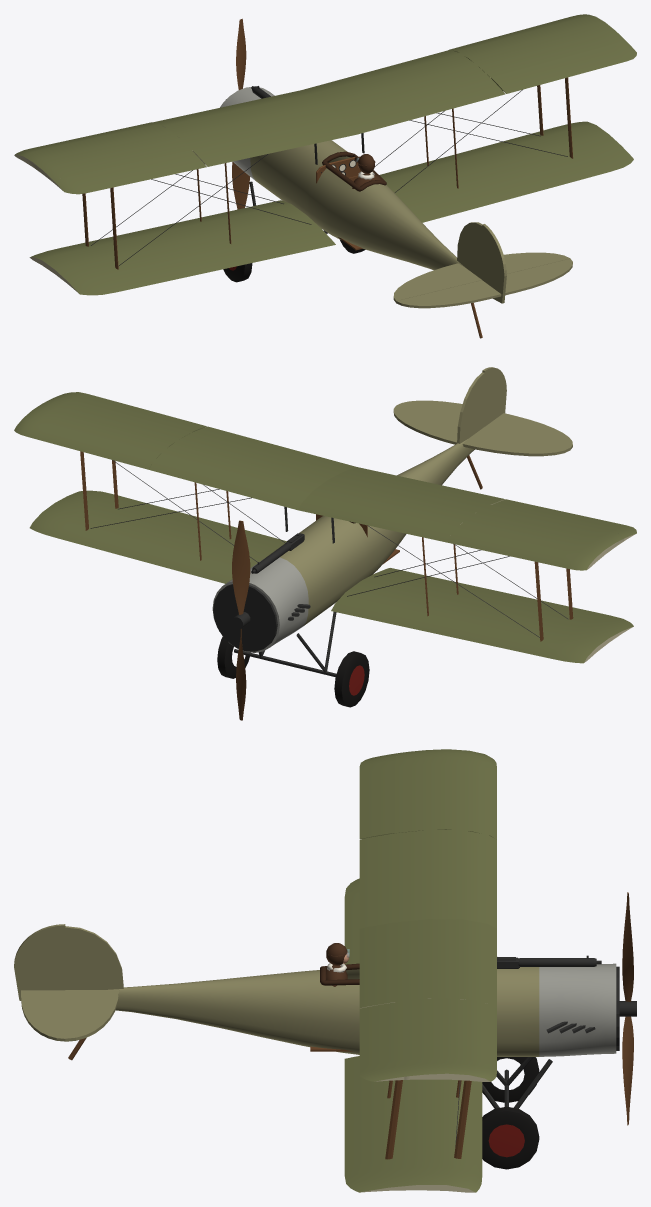
The model's file is spad_vii.glb.
The picture shows the model from 3 angles, top to bottom: view 1: azimuth 30°, elevation 25°; view 2: azimuth 150°, elevation 25°; view 3: azimuth 270°, elevation 25°; orthographic projection. The views are drawn at different scales.
Visible parts, largest first — view 1: Wing_Lower_L, Wing_Upper_R, Wing_Upper_L, Wing_Lower_R, Fuselage, Aileron_R, Elevator, Aileron_L, Struts, Stabilizer_L, Rudder, Wires (+7 smaller); view 2: Wing_Upper_R, Wing_Upper_L, Wing_Lower_L, Wing_Lower_R, Fuselage, Engine, Wheels, PropBlades, Elevator, Stabilizer_L, Struts, Stabilizer_R (+7 smaller); view 3: Fuselage, Wing_Upper_L, Wing_Upper_R, Wing_Lower_R, Wheels, Fin, Rudder, Aileron_L, Aileron_R, Stabilizer_R, PropBlades, Elevator (+6 smaller).
Boxes of the visible parts, bbox=[...] form: Wing_Lower_L: bbox=[29, 200, 335, 295]; Wing_Upper_R: bbox=[302, 14, 623, 134]; Wing_Upper_L: bbox=[14, 90, 356, 180]; Wing_Lower_R: bbox=[379, 121, 633, 222]; Fuselage: bbox=[220, 87, 464, 270]; Aileron_R: bbox=[491, 39, 636, 93]; Elevator: bbox=[396, 258, 572, 308]; Aileron_L: bbox=[51, 150, 206, 194]; Struts: bbox=[82, 77, 573, 269]; Stabilizer_L: bbox=[393, 263, 481, 303]; Rudder: bbox=[482, 224, 506, 303]; Wires: bbox=[91, 89, 567, 266]; Wing_Upper_R: bbox=[14, 398, 355, 509]; Wing_Upper_L: bbox=[298, 467, 623, 570]; Wing_Lower_L: bbox=[331, 568, 633, 663]; Wing_Lower_R: bbox=[29, 490, 286, 583]; Fuselage: bbox=[212, 439, 474, 652]; Engine: bbox=[213, 584, 310, 651]; Wheels: bbox=[217, 636, 369, 707]; PropBlades: bbox=[231, 520, 250, 720]; Elevator: bbox=[397, 400, 572, 449]; Stabilizer_L: bbox=[462, 427, 570, 456]; Struts: bbox=[80, 451, 573, 641]; Stabilizer_R: bbox=[393, 405, 458, 444]; Fuselage: bbox=[106, 963, 616, 1056]; Wing_Upper_L: bbox=[359, 749, 496, 928]; Wing_Upper_R: bbox=[359, 919, 496, 1081]; Wing_Lower_R: bbox=[344, 1056, 482, 1192]; Wheels: bbox=[482, 1057, 539, 1169]; Fin: bbox=[65, 926, 123, 989]; Rudder: bbox=[14, 924, 65, 1000]; Aileron_L: bbox=[359, 752, 403, 838]; Aileron_R: bbox=[359, 1002, 404, 1081]; Stabilizer_R: bbox=[65, 990, 118, 1041]; PropBlades: bbox=[619, 892, 636, 1125]; Elevator: bbox=[21, 990, 65, 1041].
Size of the model in its own units: 7.82 by 2.71 by 6.34.
